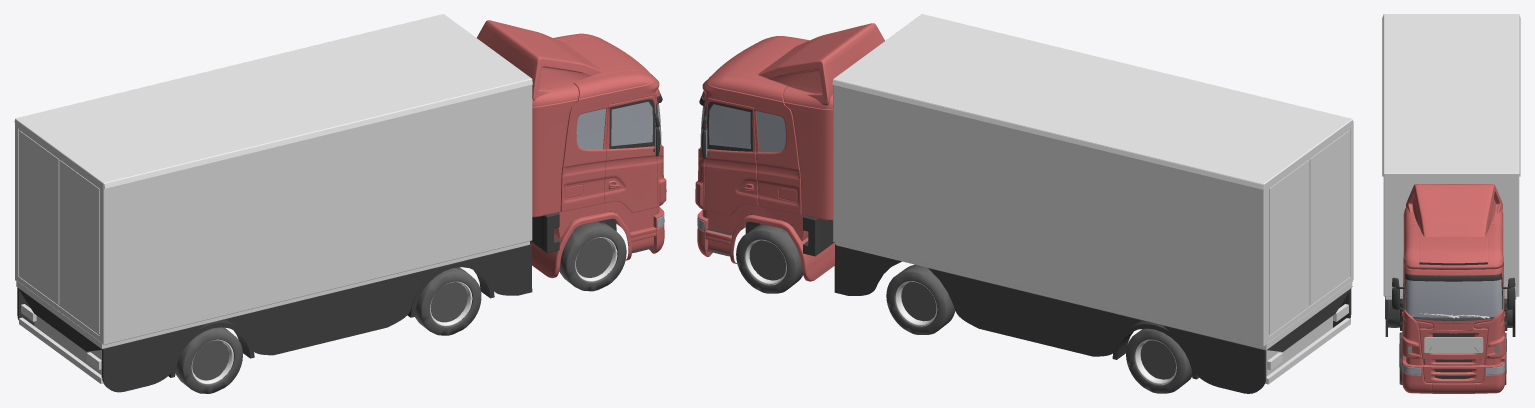
Rendered from truck1.glb.
3 views of the same model, side by side, from view 1: azimuth 30°, elevation 25°; view 2: azimuth 150°, elevation 25°; view 3: azimuth 270°, elevation 25° (orthographic). The views are drawn at different scales.
Visible parts, largest first — view 1: 02 - Default, 03 - Default, 04 - Default, 01 - Default, Mat3d66-725510-3-2609, Mat3d66-725510-26-3130, Mat3d66-725510-23-5798, Group001, Mat3d66-725510-7-7437, Mat3d66-725510-15-3707, Mat3d66-725510-12-2272; view 2: 02 - Default, 03 - Default, 04 - Default, 01 - Default, Mat3d66-725510-3-2609, Mat3d66-725510-26-3130, Group001, Mat3d66-725510-7-7437, Mat3d66-725510-15-3707, Mat3d66-725510-12-2272, Mat3d66-725510-19-1562; view 3: 02 - Default, 03 - Default, Mat3d66-725510-3-2609, 04 - Default, Mat3d66-725510-25-9013, 01 - Default, Mat3d66-725510-26-3130, Mat3d66-725510-7-7437, Mat3d66-725510-23-5798, Mat3d66-725510-2-8603.
Boxes of the visible parts, x1,y1,x2,y2 form: 02 - Default: (14,14,616,384); 03 - Default: (477,20,666,278); 04 - Default: (17,94,662,392); 01 - Default: (175,221,626,393); Mat3d66-725510-3-2609: (611,101,664,227); Mat3d66-725510-26-3130: (554,201,659,253); Mat3d66-725510-23-5798: (168,261,494,377); Group001: (576,108,606,149); Mat3d66-725510-7-7437: (531,212,559,253); Mat3d66-725510-15-3707: (34,315,101,374); Mat3d66-725510-12-2272: (19,317,103,383); 02 - Default: (745,14,1353,384); 03 - Default: (695,23,884,281); 04 - Default: (699,96,1352,393); 01 - Default: (736,224,1192,393); Mat3d66-725510-3-2609: (697,104,750,231); Mat3d66-725510-26-3130: (702,204,808,256); Group001: (756,111,785,152); Mat3d66-725510-7-7437: (803,215,834,256); Mat3d66-725510-15-3707: (1266,316,1332,376); Mat3d66-725510-12-2272: (1265,318,1350,384); Mat3d66-725510-19-1562: (1112,320,1199,379); 02 - Default: (1382,14,1520,299); 03 - Default: (1402,184,1505,393); Mat3d66-725510-3-2609: (1402,279,1504,375); 04 - Default: (1385,262,1515,383); Mat3d66-725510-25-9013: (1424,337,1483,352); 01 - Default: (1388,309,1512,384); Mat3d66-725510-26-3130: (1406,357,1501,365); Mat3d66-725510-7-7437: (1400,298,1507,330); Mat3d66-725510-23-5798: (1385,296,1399,319); Mat3d66-725510-2-8603: (1419,313,1489,318).
Bounding box in the file's own units: 10.12 × 3.96 × 2.73.
